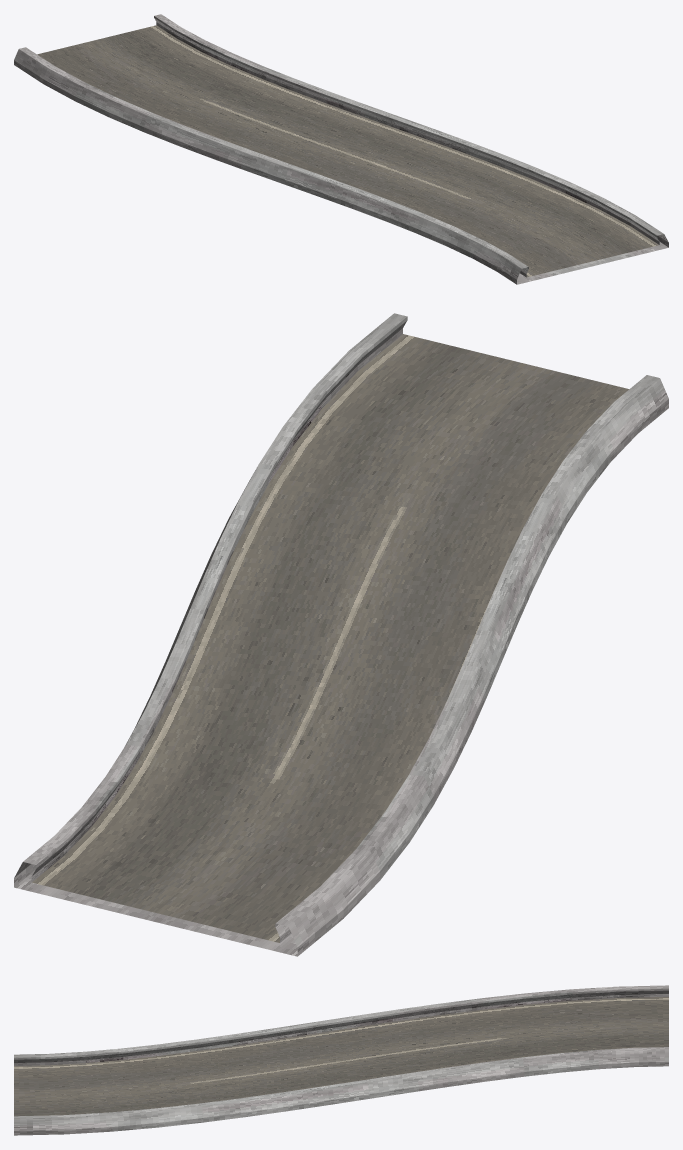
Rendered from road-Chicane-Flat-Flat-Even-Left1-Size4.glb.
3 views of the same model, one above another, from view 1: azimuth 30°, elevation 25°; view 2: azimuth 150°, elevation 25°; view 3: azimuth 270°, elevation 25° (orthographic). The views are drawn at different scales.
Visible parts, largest first — view 1: road-Chicane-Flat-Flat-Even-Left1-Size4; view 2: road-Chicane-Flat-Flat-Even-Left1-Size4; view 3: road-Chicane-Flat-Flat-Even-Left1-Size4.
Part boxes in pixels (x1=…): road-Chicane-Flat-Flat-Even-Left1-Size4: x1=14, y1=14, x2=668, y2=284; road-Chicane-Flat-Flat-Even-Left1-Size4: x1=14, y1=313, x2=668, y2=956; road-Chicane-Flat-Flat-Even-Left1-Size4: x1=14, y1=985, x2=668, y2=1135.
Size of the model in its own units: 2 by 0.0938 by 4.
Materials: 2 (2 with a texture image).
